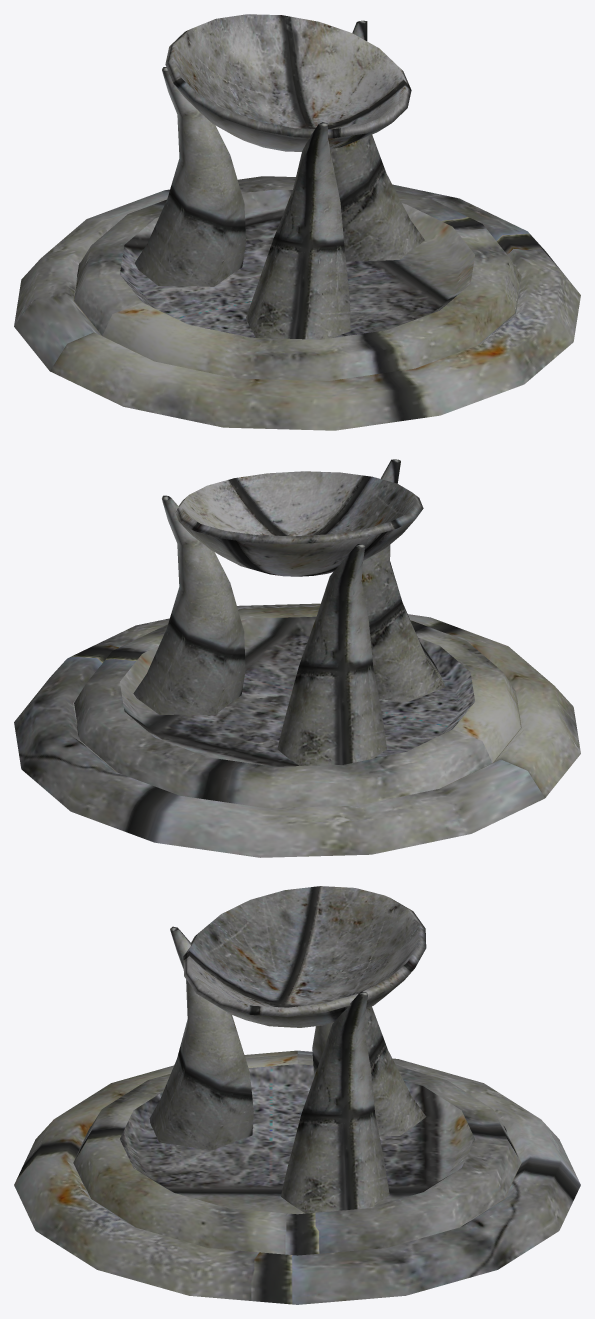
The model's file is shrine.fbx.
The picture shows the model from 3 angles, top to bottom: view 1: azimuth 30°, elevation 25°; view 2: azimuth 150°, elevation 25°; view 3: azimuth 270°, elevation 25°; orthographic projection.
Visible parts, largest first — view 1: polySurface16; view 2: polySurface16; view 3: polySurface16.
Boxes of the visible parts, box(x1,y1,x2,y2) form: polySurface16: box(14, 14, 580, 430); polySurface16: box(14, 459, 580, 857); polySurface16: box(14, 886, 580, 1304).
Size of the model in its own units: 3.74 by 1.84 by 3.74.
